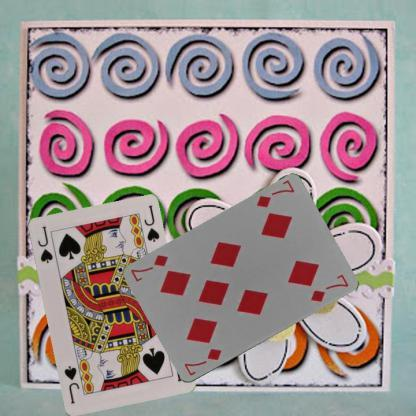7d: (254, 178, 296, 210), (182, 346, 223, 377)
Js: (34, 222, 53, 264)
